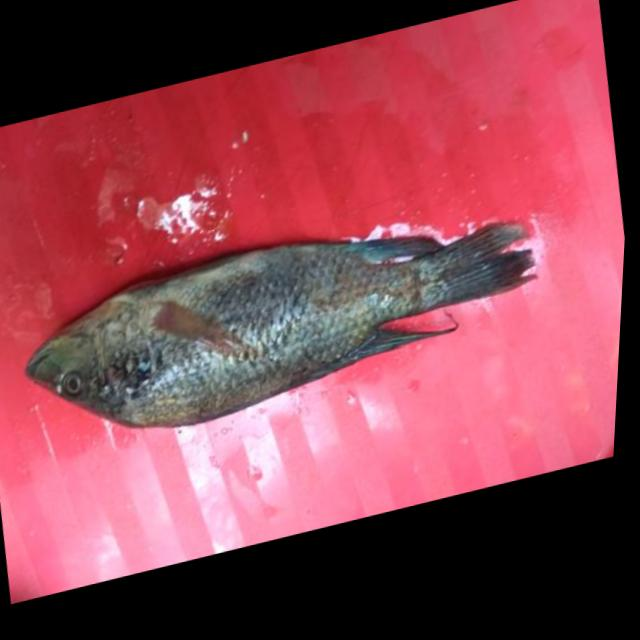Tilapia: (12, 183, 549, 465)
